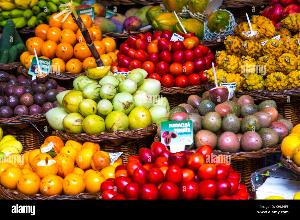tomato: (100, 141, 258, 203)
